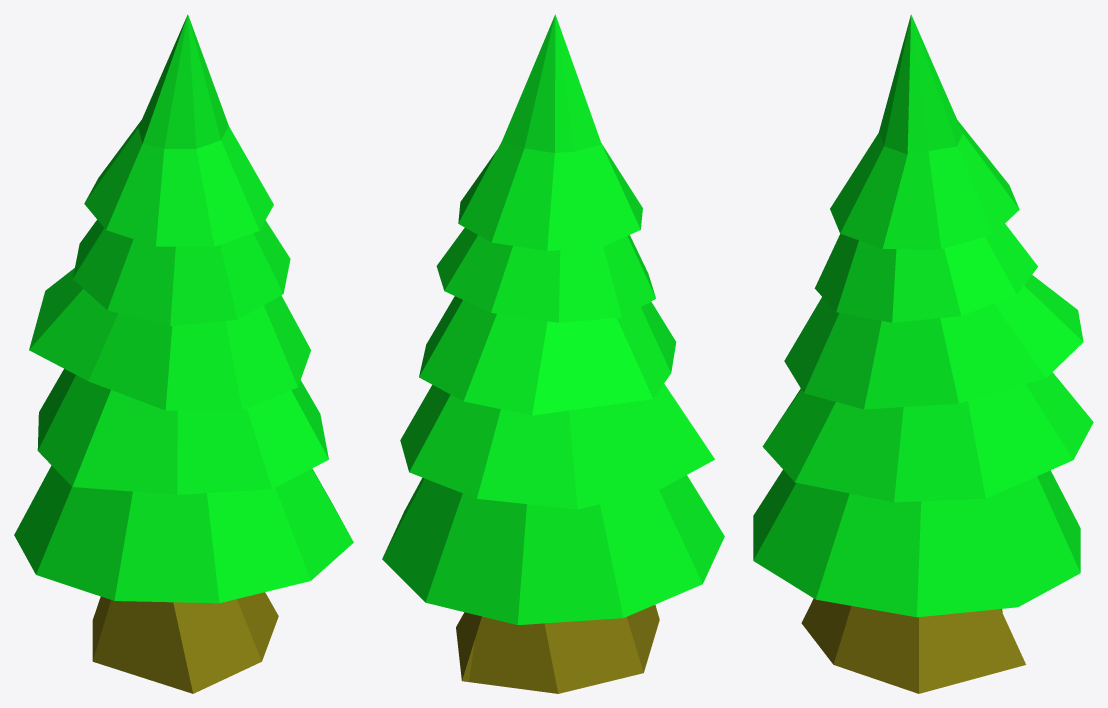
Rendered from Pine.FBX.
3 renders of one model, left to right at view 1: azimuth 30°, elevation 25°; view 2: azimuth 150°, elevation 25°; view 3: azimuth 270°, elevation 25°, orthographic.
Visible parts, largest first — view 1: NGon001; view 2: NGon001; view 3: NGon001.
Boxes of the visible parts, x1,y1,x2,y2 form: NGon001: [14, 14, 353, 693]; NGon001: [382, 14, 724, 693]; NGon001: [753, 14, 1093, 693].
Bounding box in the file's own units: 107 × 218 × 106.
